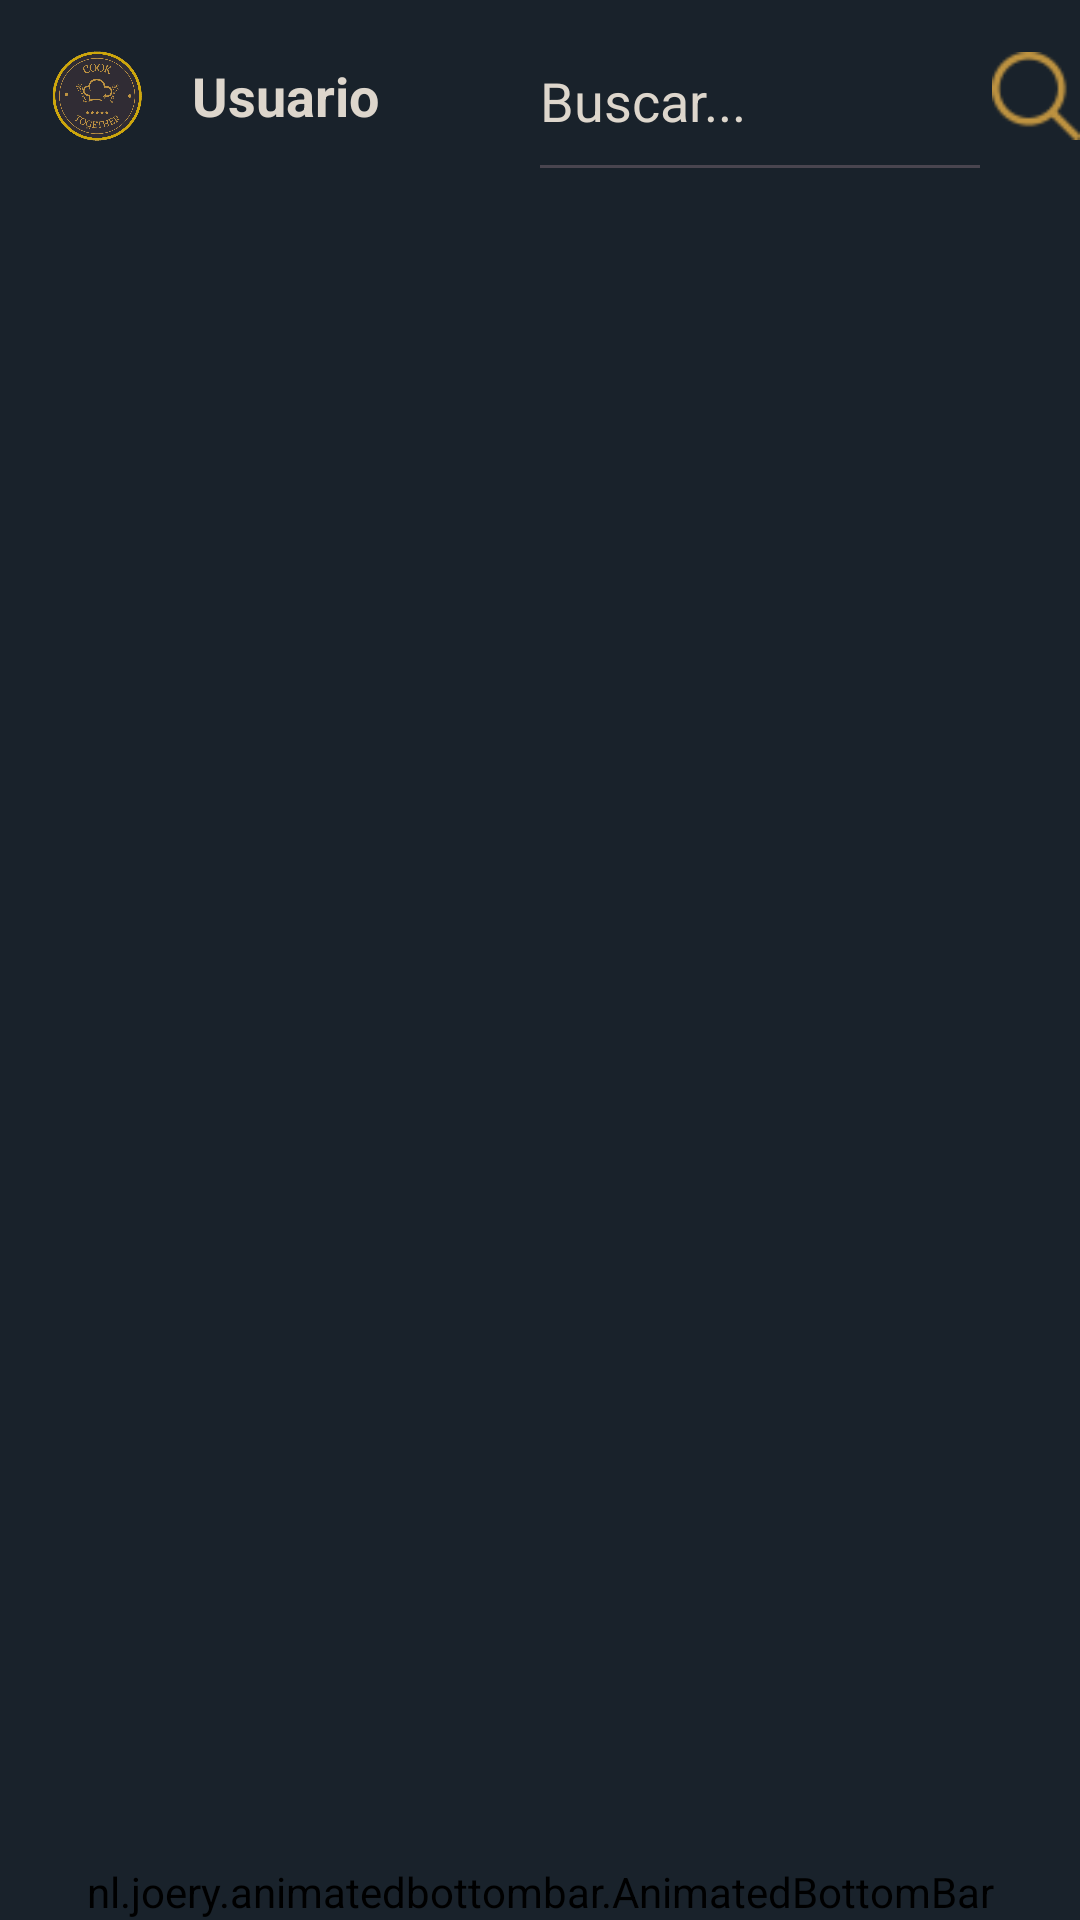

Icon click points for this 1080px x 1920px phone screenshot, format [x,y]:
search: [1036,96]
